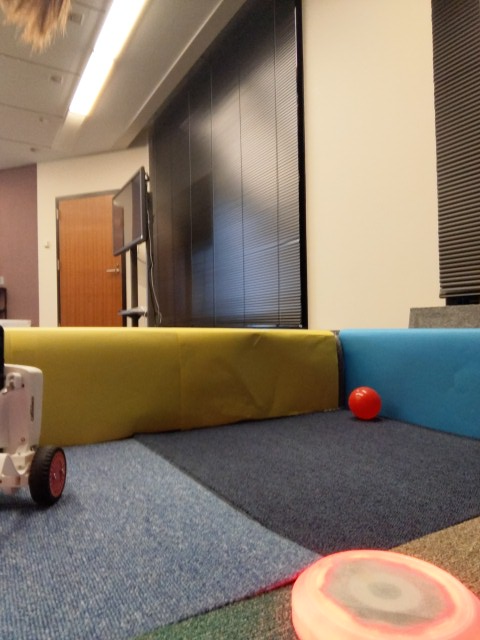bl: (1, 317, 76, 529)
r: (284, 542, 480, 640)
